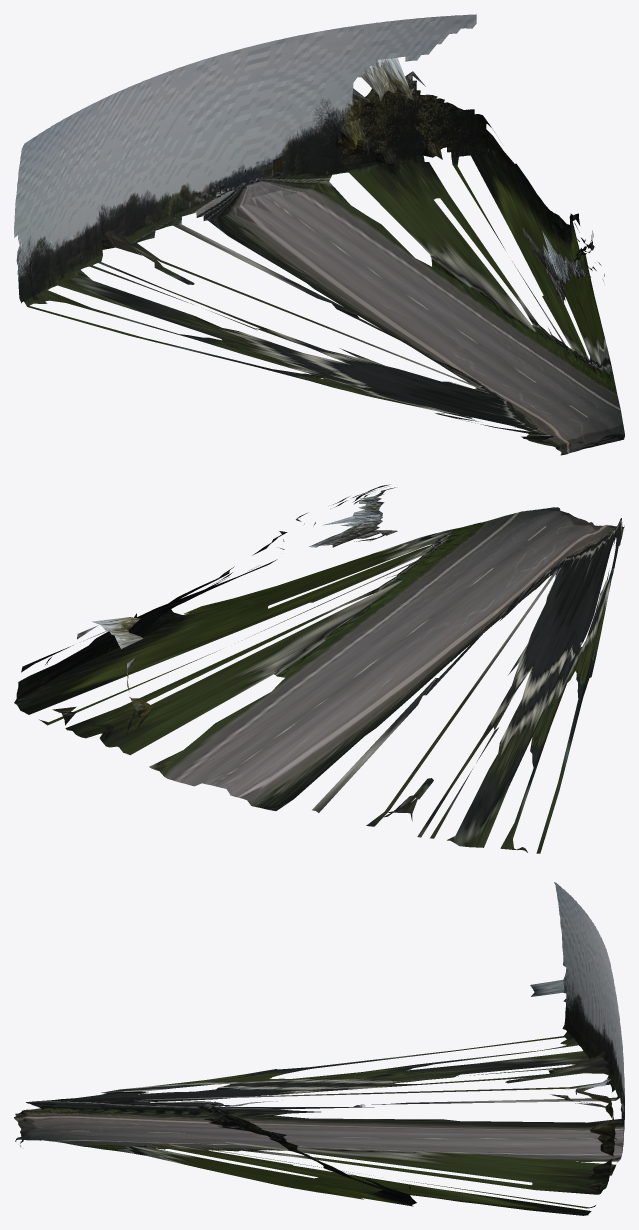
3 views of the same model, one above another, from view 1: azimuth 30°, elevation 25°; view 2: azimuth 150°, elevation 25°; view 3: azimuth 270°, elevation 25° (orthographic). The views are drawn at different scales.
Visible parts, largest first — view 1: defaultobject; view 2: defaultobject; view 3: defaultobject.
Part boxes in pixels (x1,y1,x2,y2): defaultobject: (14, 14, 624, 455); defaultobject: (14, 484, 624, 853); defaultobject: (14, 882, 624, 1215).
Size of the model in its own units: 36.81 by 12.91 by 44.59.
Materials: 1 (1 with a texture image).
